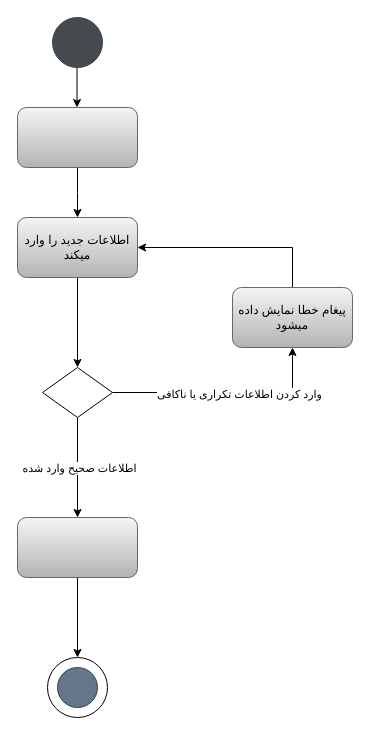
Image size: 370x735. Some labels were removed from this diagram. Here are the shapes that lost their labels. From the top down, the box of each, then its label:
(16, 106, 138, 168): فرد گزینه ویرایش اطلاعات را انتخاب میکند
(16, 516, 138, 578): اطلاعات جدید جایگزین اطلاعات قبلی فرد میشود
